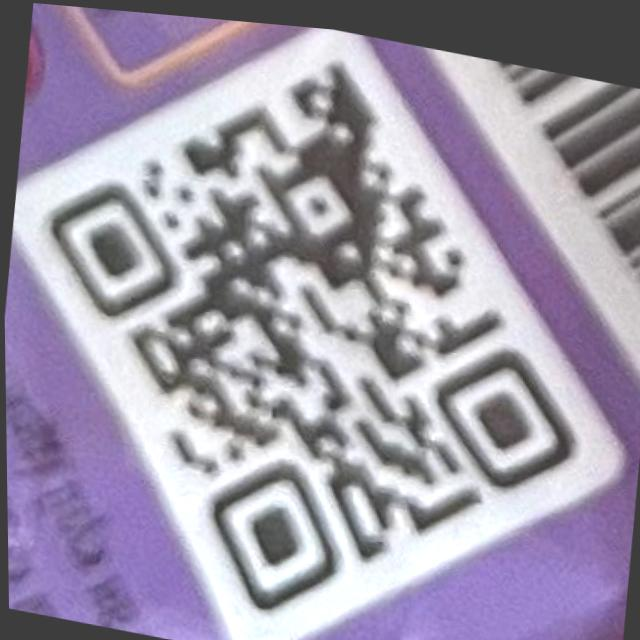QR_CODE: (9, 2, 614, 640)
